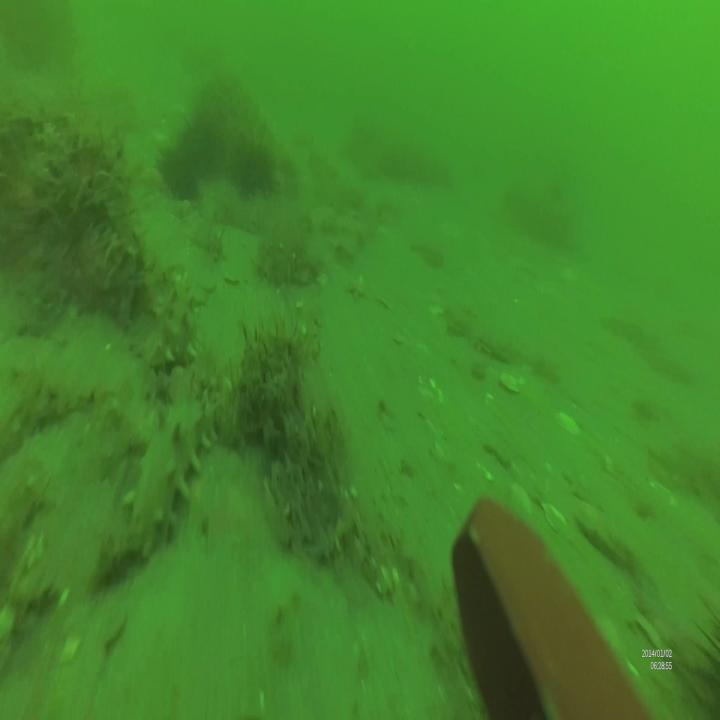echinus: (235, 132, 278, 199)
holothurian: (127, 380, 215, 560), (148, 270, 198, 368)
